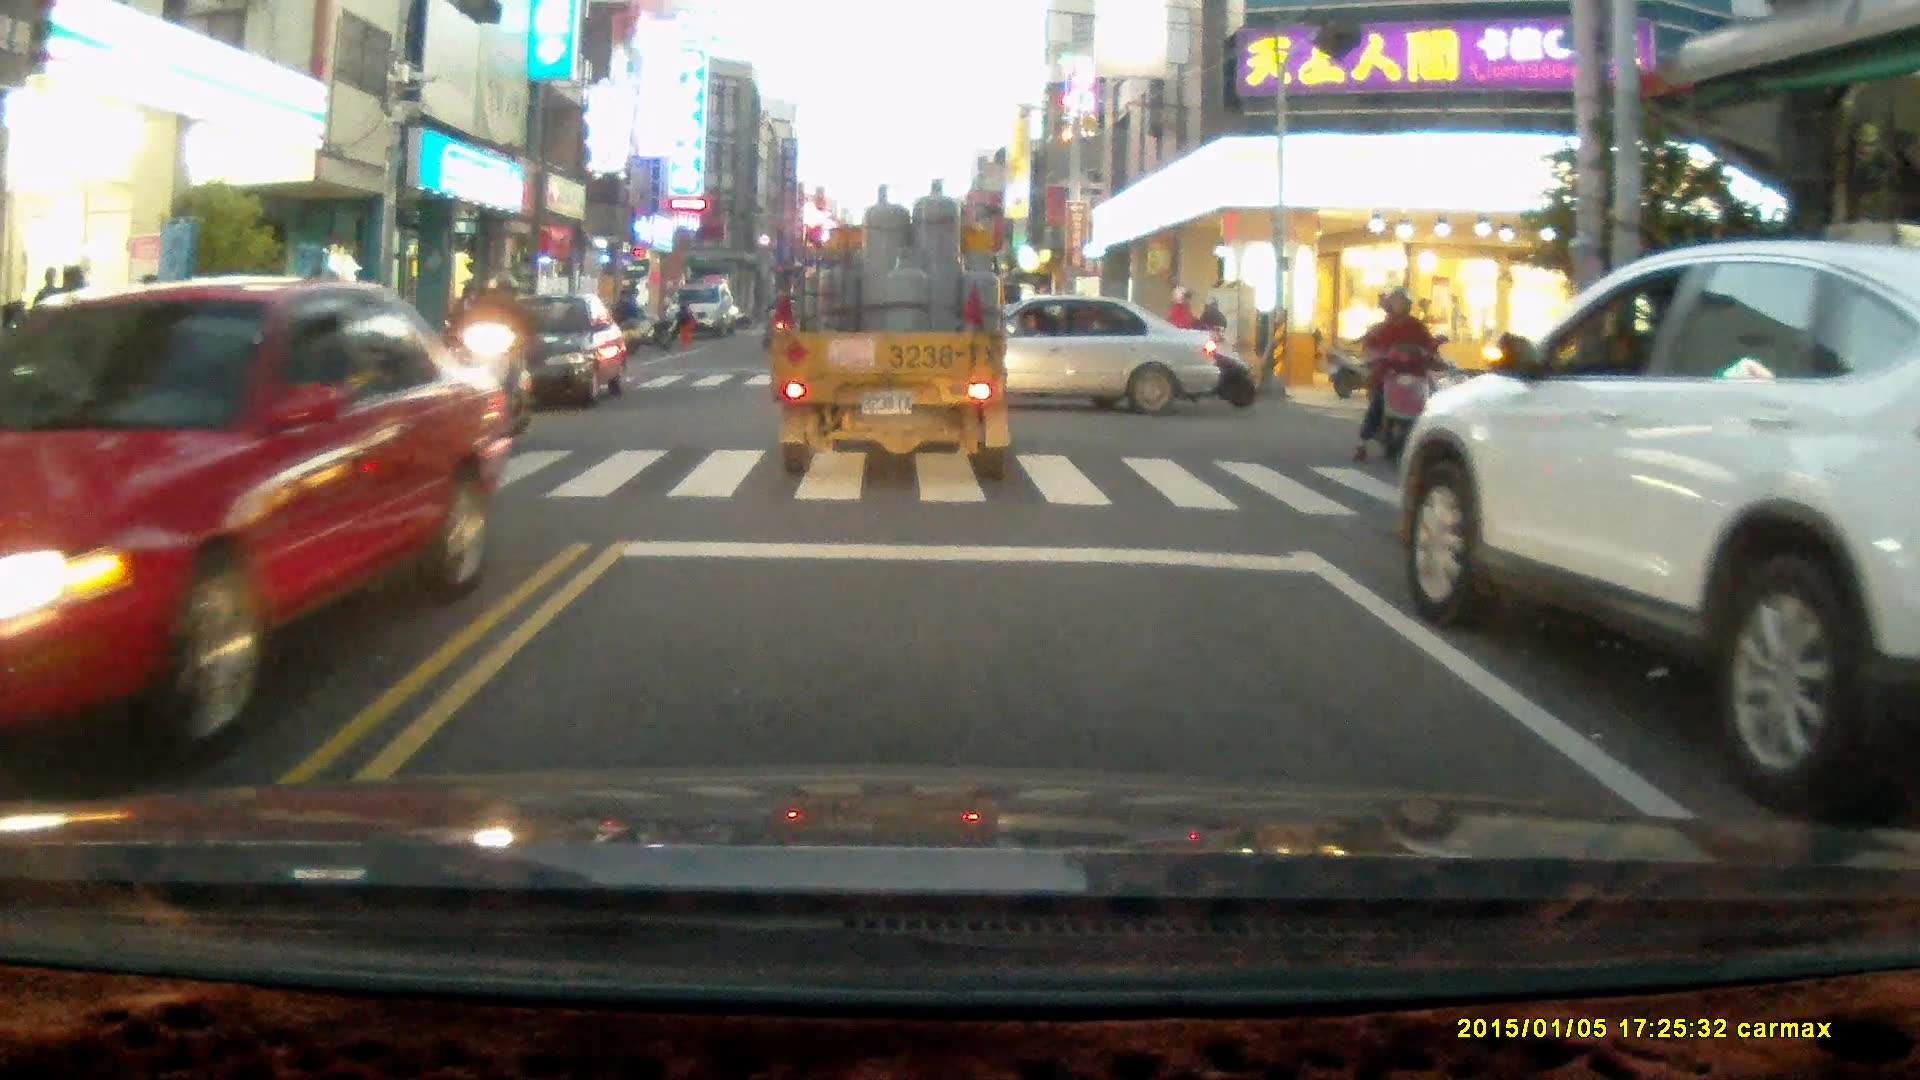pedestrian: (616, 285, 643, 348)
rider: (1346, 283, 1455, 479), (454, 276, 536, 467), (1137, 284, 1258, 409), (1151, 290, 1245, 397)
vehicle: (1391, 238, 1920, 819), (1, 275, 518, 791), (773, 185, 1022, 478), (874, 291, 1227, 416), (464, 286, 630, 418), (666, 284, 735, 336)
